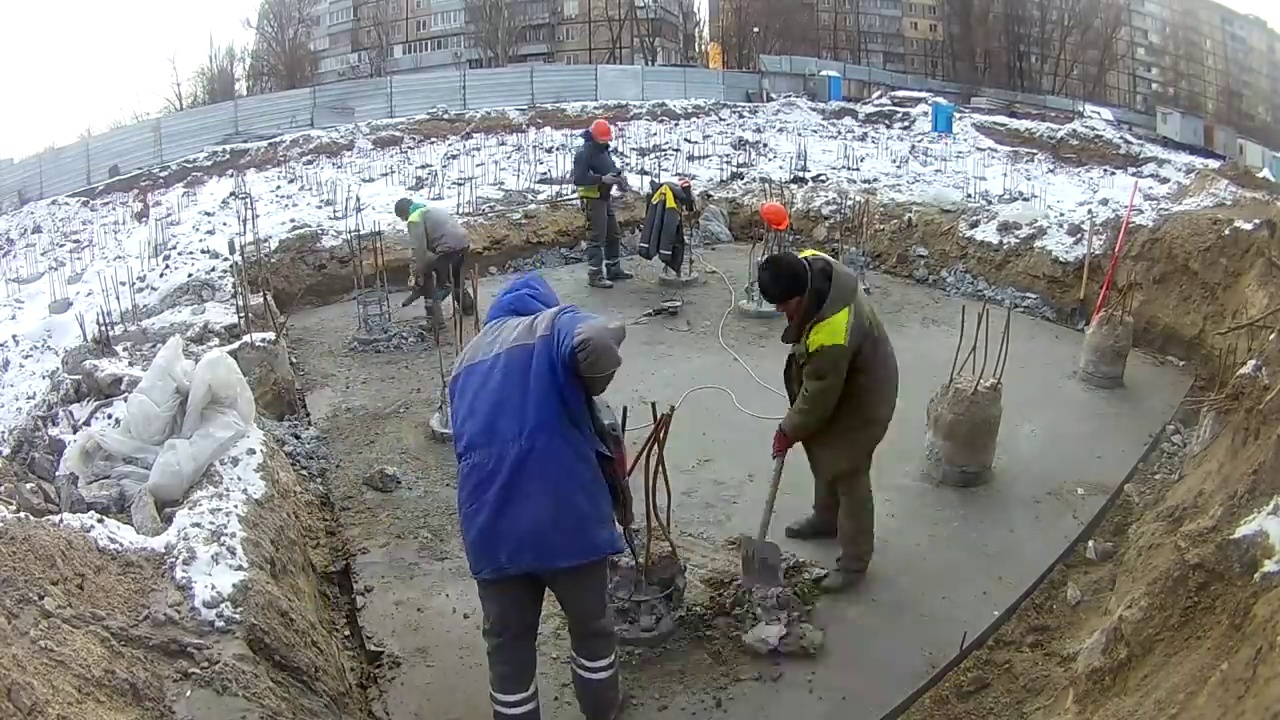helmet: (760, 203, 790, 231), (586, 122, 614, 143)
helmet-off: (487, 272, 559, 327), (757, 253, 809, 304), (394, 198, 417, 222)
helmet-on: (586, 122, 614, 149)
person: (430, 256, 632, 719), (750, 249, 901, 597), (393, 200, 476, 337), (572, 121, 628, 290)
